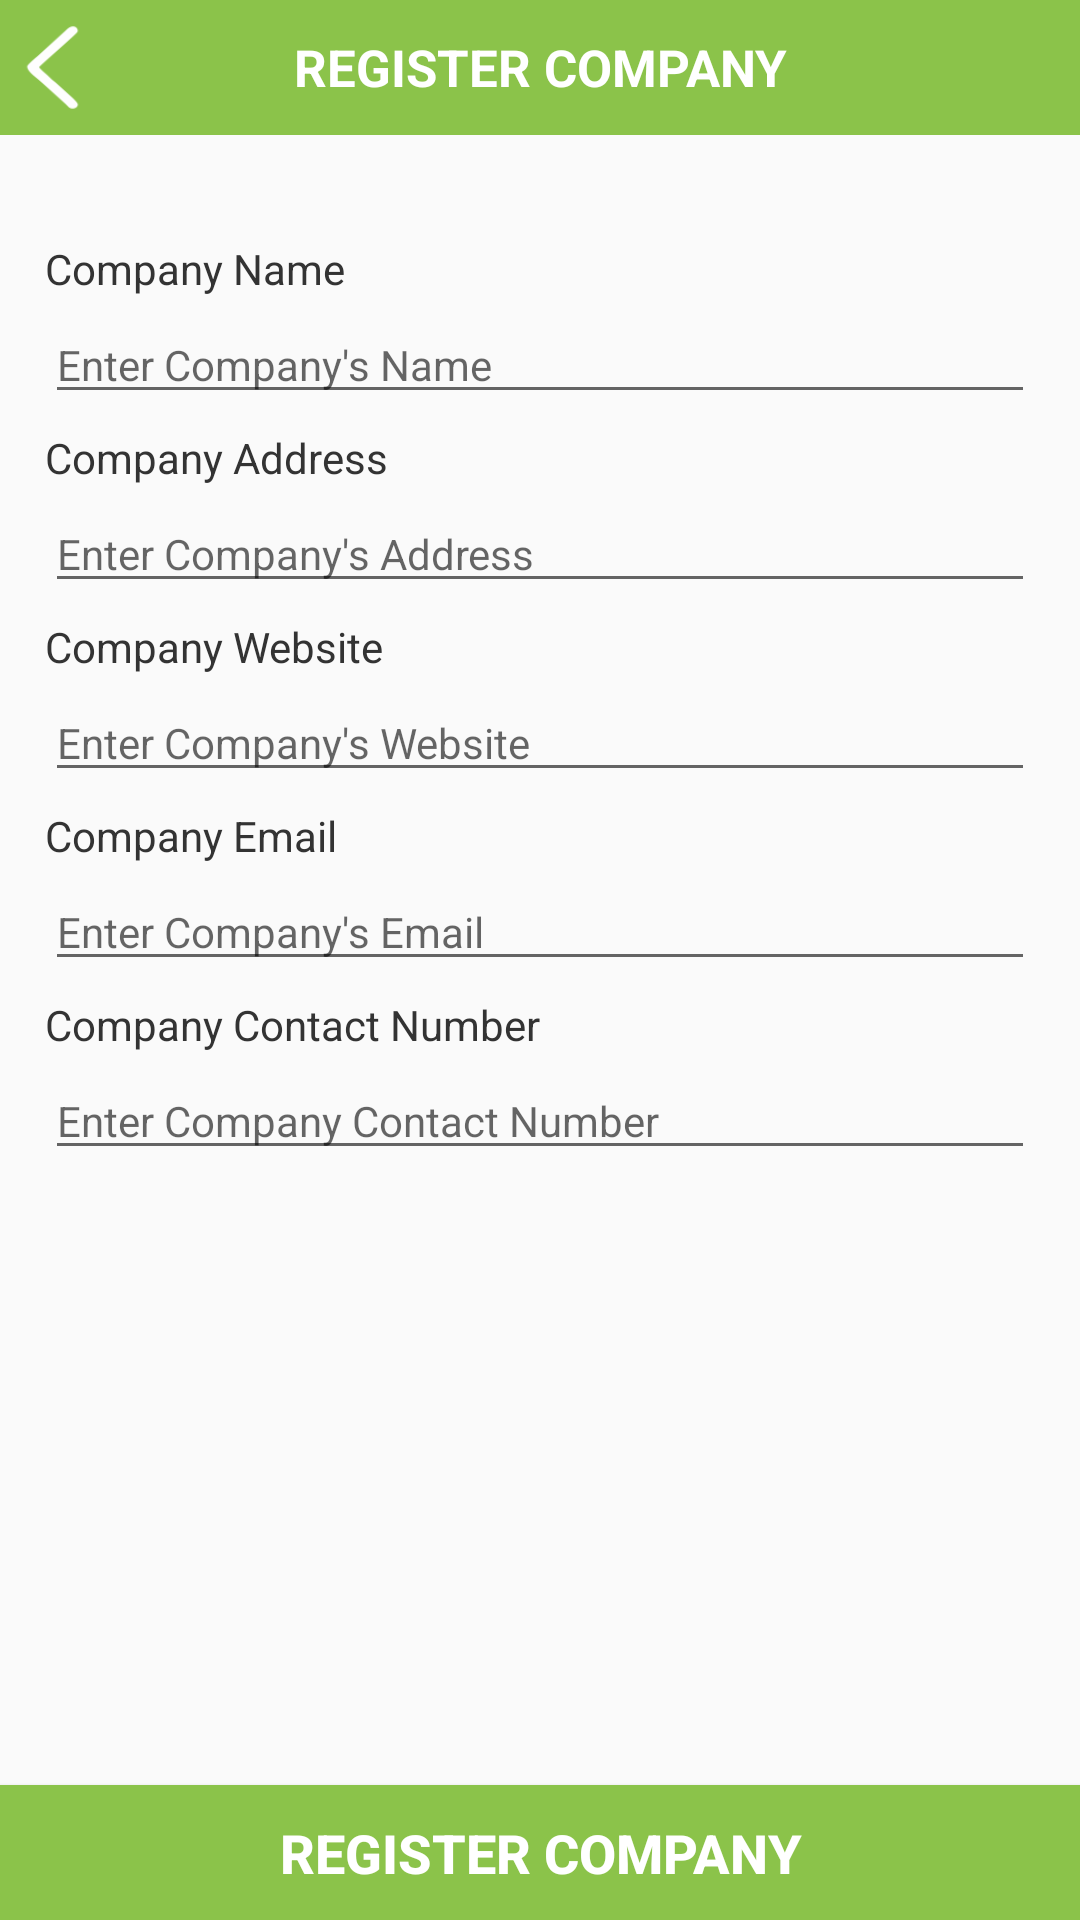

Locate icon controls on the screen. Image size 1080x1920, boxes as rect(x1, y1, x2, y2).
back arrow: rect(27, 26, 79, 109)
